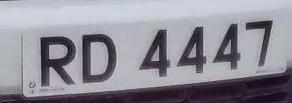4: (136, 22, 175, 83), (174, 19, 215, 77), (211, 16, 247, 77)
7: (243, 14, 278, 72)
D: (76, 28, 122, 88)
R: (33, 31, 82, 93)
